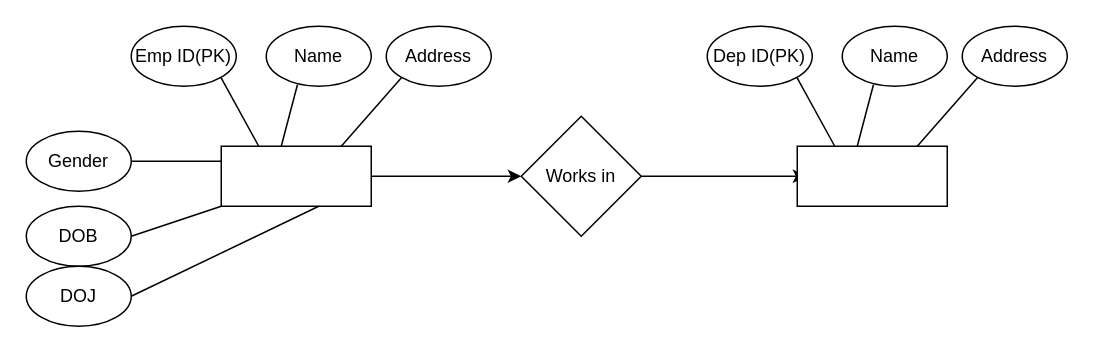
The diagram is 1094 pixels wide and 353 high, and some of its shapes have lost their labels. The shapes that lost their labels are listed below. From the top down, each one's box as (x1, y1, x2, y2) in pixels, then its label:
(220, 145, 371, 206): Employee
(796, 145, 947, 206): Department
